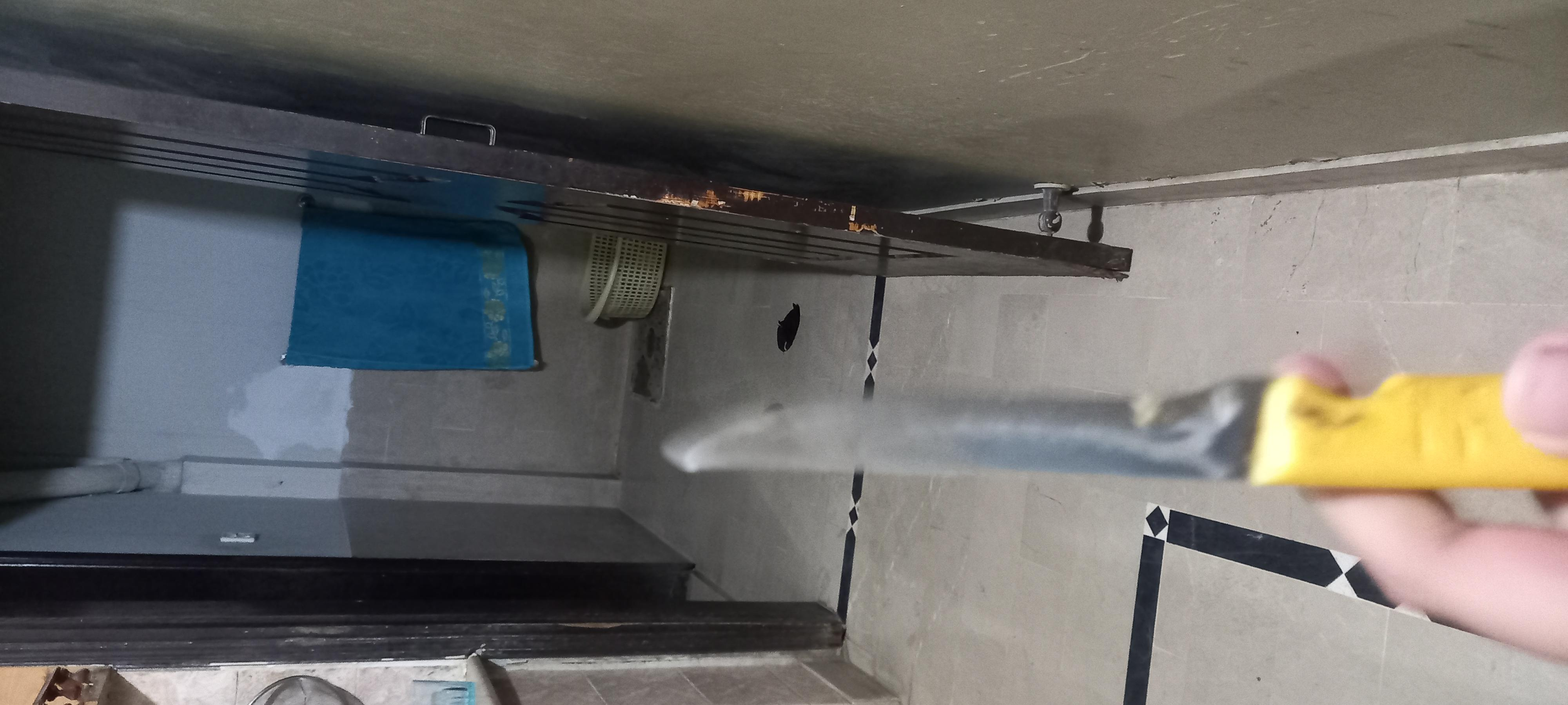knives: (439, 282, 833, 705)
